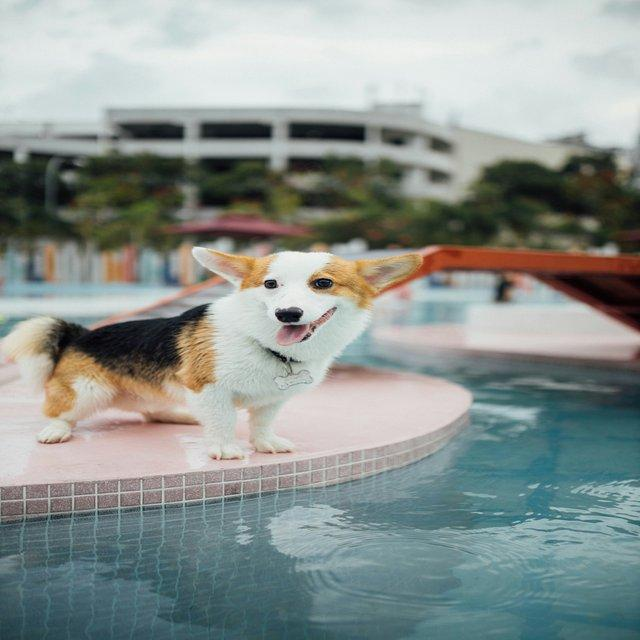corgi: (0, 244, 423, 461)
